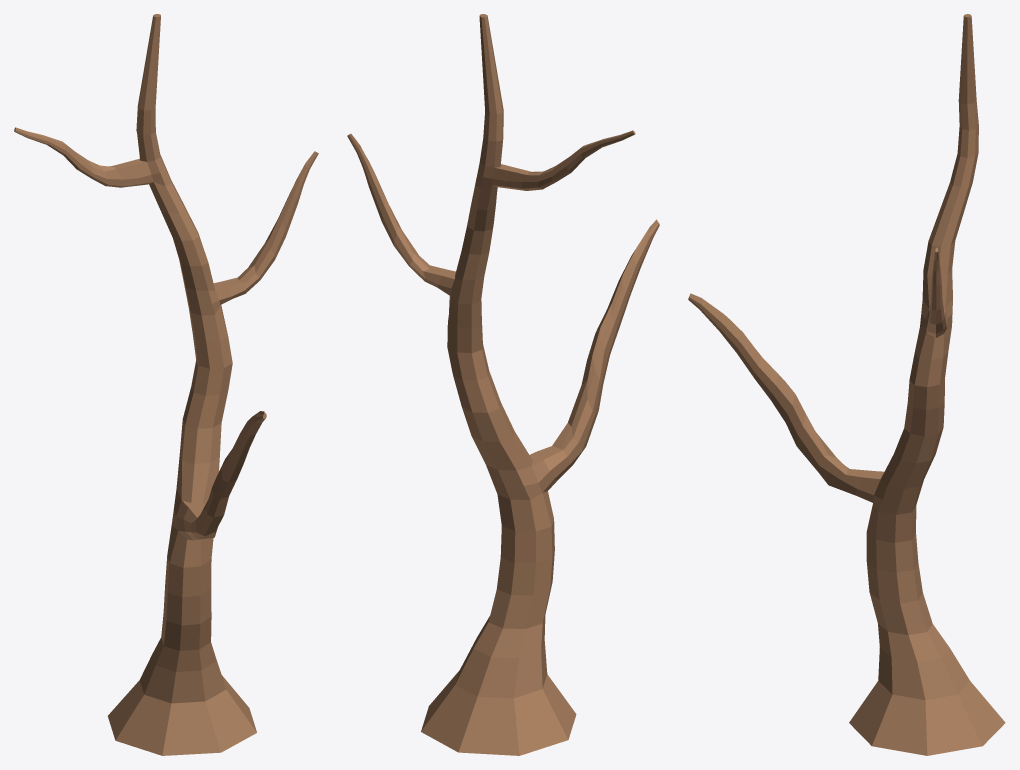
File: TREE2_branch.fbx
3 views of the same model, side by side, from view 1: azimuth 30°, elevation 25°; view 2: azimuth 150°, elevation 25°; view 3: azimuth 270°, elevation 25° (orthographic). The views are drawn at different scales.
Parts seen in each view (by area): view 1: polySurface7; view 2: polySurface7; view 3: polySurface7.
Part boxes in pixels (left/top/right/bottom): polySurface7: left=14, top=14, right=318, bottom=755; polySurface7: left=347, top=14, right=659, bottom=755; polySurface7: left=688, top=14, right=1005, bottom=755.
Size of the model in its own units: 11.62 by 26.58 by 10.86.
